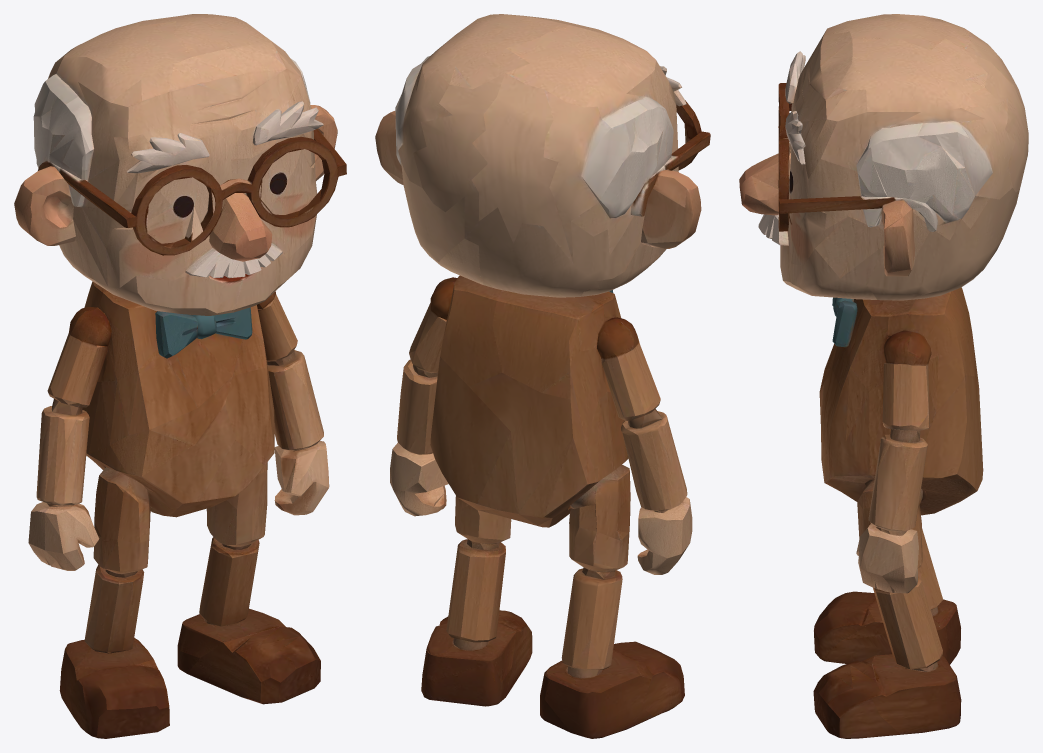
File: giant-0.glb
3 renders of one model, left to right at view 1: azimuth 30°, elevation 25°; view 2: azimuth 150°, elevation 25°; view 3: azimuth 270°, elevation 25°, orthographic. The views are drawn at different scales.
Size of the model in its own units: 0.9585 by 1.9 by 0.7707.
1 material, 1 textured.
